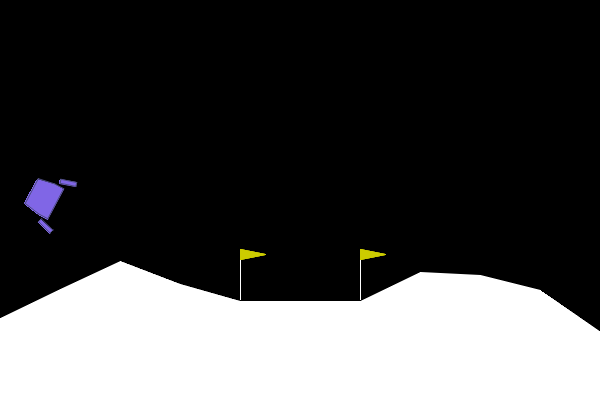lander: (15, 164, 79, 236)
